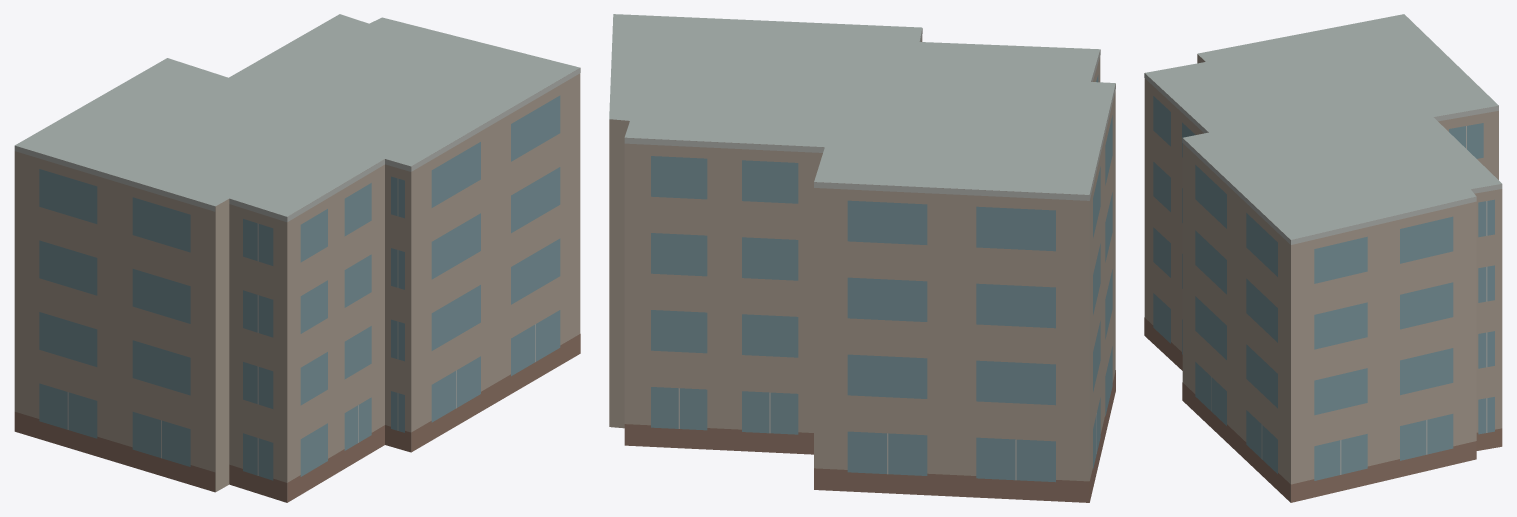
File: survey-upis-32604166.glb
3 views of the same model, side by side, from view 1: azimuth 30°, elevation 25°; view 2: azimuth 150°, elevation 25°; view 3: azimuth 270°, elevation 25° (orthographic). The views are drawn at different scales.
Parts seen in each view (by area): view 1: survey-upis-32604166.tmp; view 2: survey-upis-32604166.tmp; view 3: survey-upis-32604166.tmp.
Boxes of the visible parts, x1,y1,x2,y2 form: survey-upis-32604166.tmp: [14, 14, 580, 502]; survey-upis-32604166.tmp: [609, 14, 1115, 502]; survey-upis-32604166.tmp: [1144, 14, 1502, 502].
Size of the model in its own units: 23.44 by 12.7 by 15.68.
